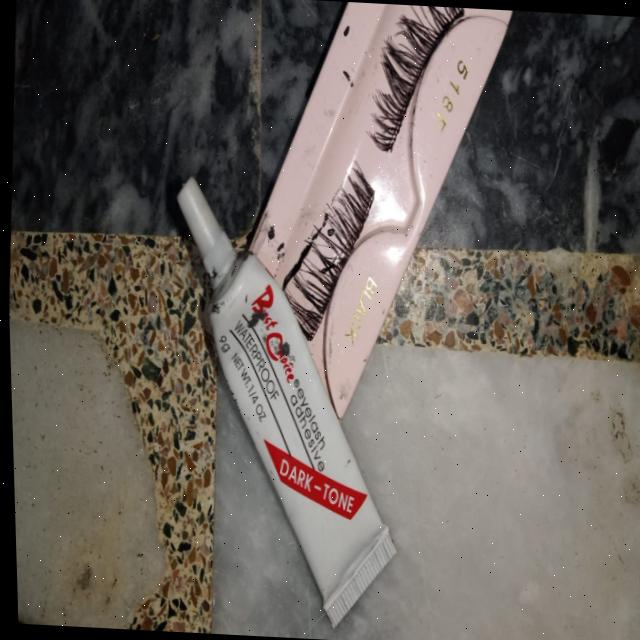eyelash curler: (272, 154, 383, 358), (353, 2, 474, 170)
